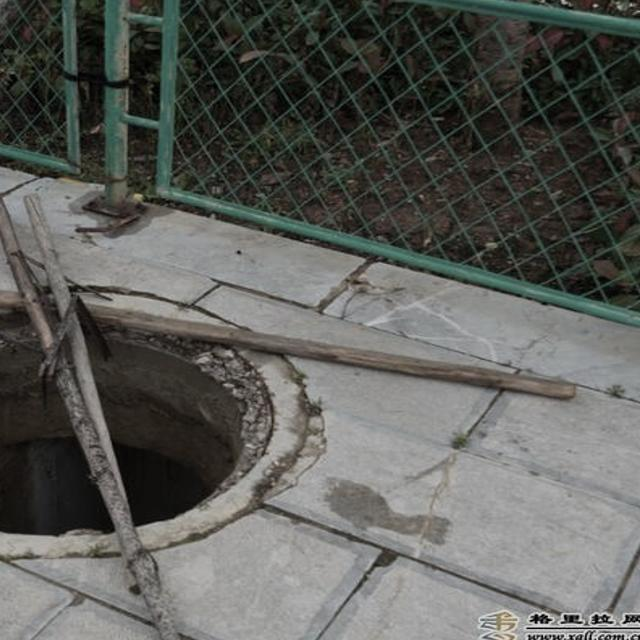lose: (0, 274, 321, 549)
